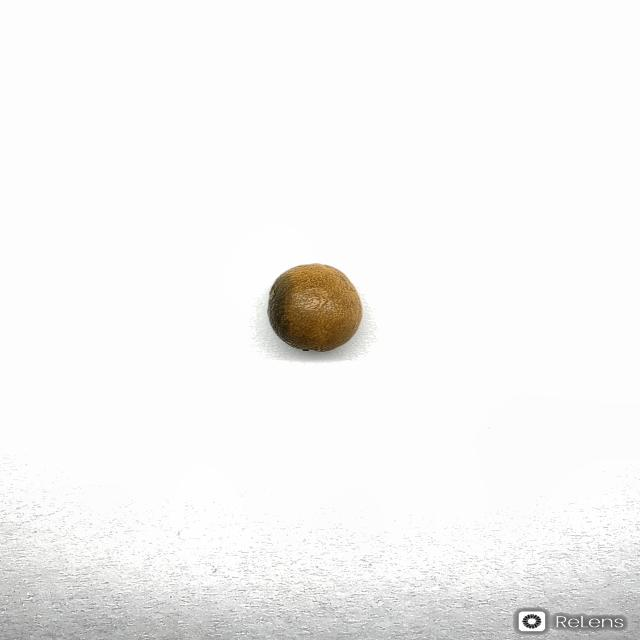Scorched: (265, 261, 364, 353)
